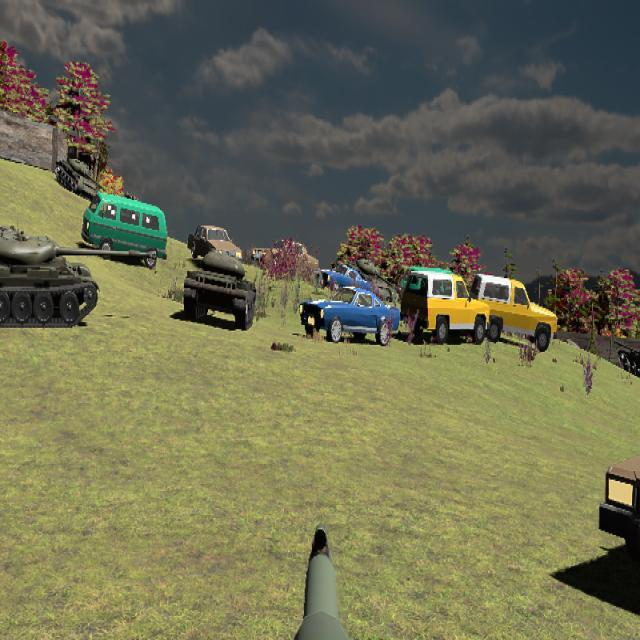Tank: (0, 225, 157, 328), (183, 249, 257, 330), (55, 157, 104, 202), (611, 333, 640, 381), (612, 335, 640, 381)
car: (598, 411, 640, 589), (468, 273, 557, 353), (400, 268, 490, 344), (81, 193, 166, 268), (299, 286, 400, 346), (252, 240, 319, 286), (187, 224, 243, 269), (320, 263, 374, 296)
